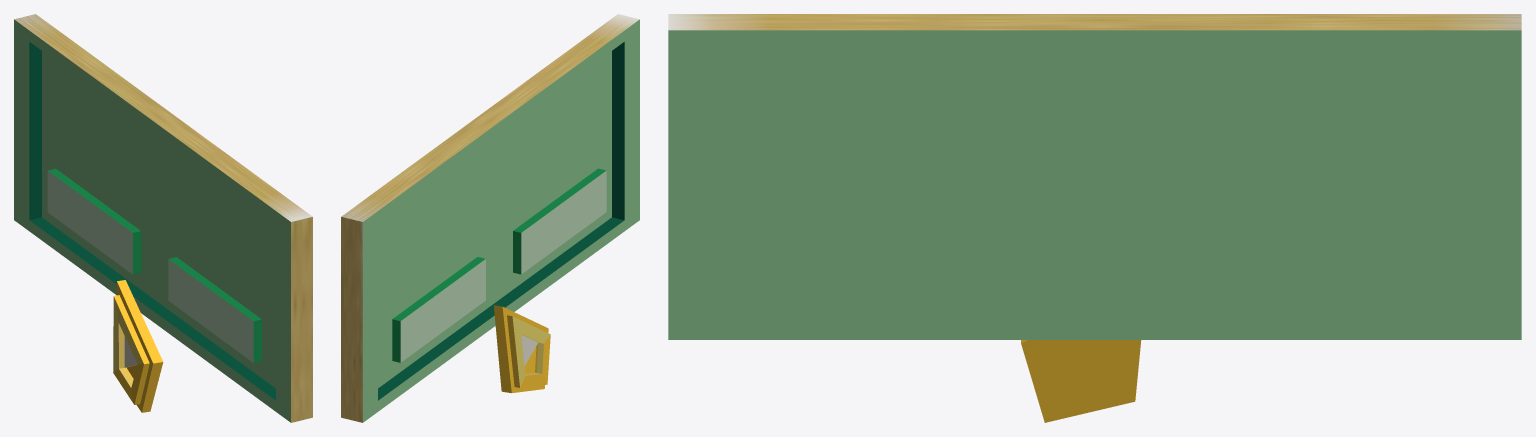
The picture shows the model from 3 angles, left to right: view 1: azimuth 30°, elevation 25°; view 2: azimuth 150°, elevation 25°; view 3: azimuth 270°, elevation 25°; orthographic projection. The views are drawn at different scales.
Parts seen in each view (by area): view 1: Cube.004, Cube.002; view 2: Cube.004, Cube.002; view 3: Cube.004, Cube.002.
Part boxes in pixels (x1,y1,x2,y2): Cube.004: (14, 14, 312, 422); Cube.002: (113, 280, 163, 412); Cube.004: (341, 14, 639, 422); Cube.002: (493, 305, 550, 393); Cube.004: (668, 14, 1521, 339); Cube.002: (1021, 340, 1141, 422).
Size of the model in its own units: 0.9294 by 4.52 by 8.26.
2 materials, 2 textured.
